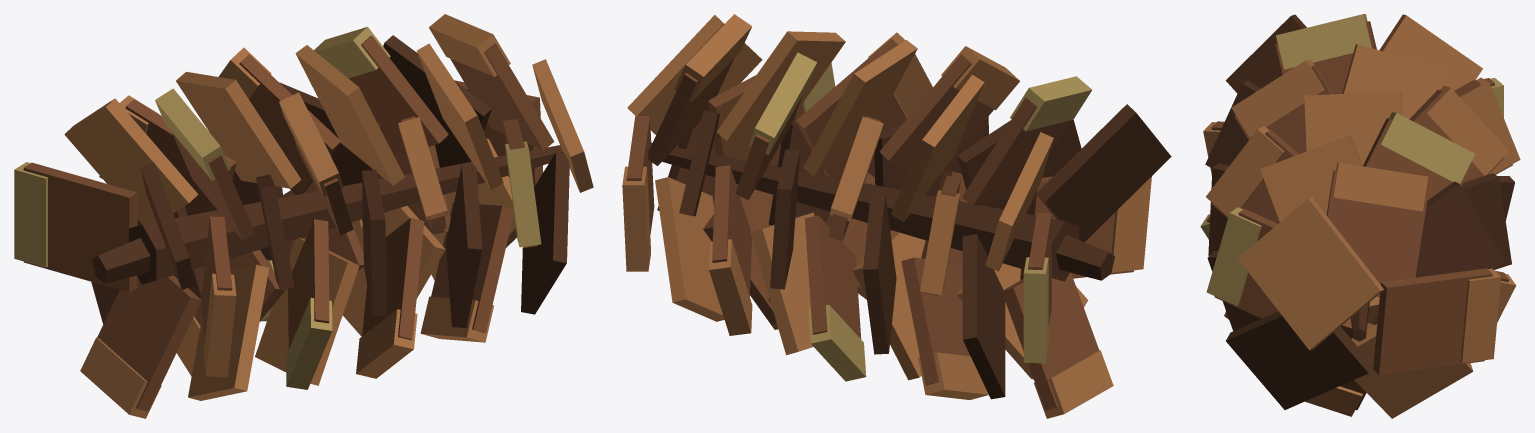
Rendered from pinecone_open.glb.
The picture shows the model from 3 angles, left to right: view 1: azimuth 30°, elevation 25°; view 2: azimuth 150°, elevation 25°; view 3: azimuth 270°, elevation 25°; orthographic projection. The views are drawn at different scales.
Visible parts, largest first — view 1: PineconeOpen; view 2: PineconeOpen; view 3: PineconeOpen.
Part boxes in pixels (box(x1,y1,x2,y2)): PineconeOpen: box(14, 14, 593, 418); PineconeOpen: box(622, 14, 1171, 418); PineconeOpen: box(1200, 14, 1520, 418).
Bounding box in the file's own units: 0.075 × 0.047 × 0.0469.
